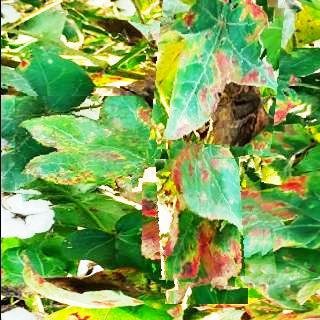blight: (141, 0, 293, 149), (14, 96, 189, 204), (141, 159, 271, 289)
